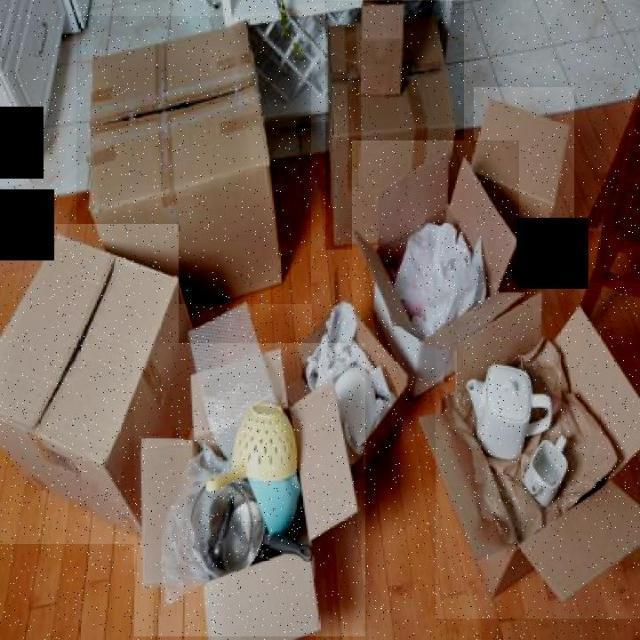box: (435, 282, 640, 618), (134, 343, 366, 637), (76, 16, 312, 304), (0, 225, 179, 544), (352, 140, 519, 394), (326, 1, 464, 250), (474, 87, 574, 245)
